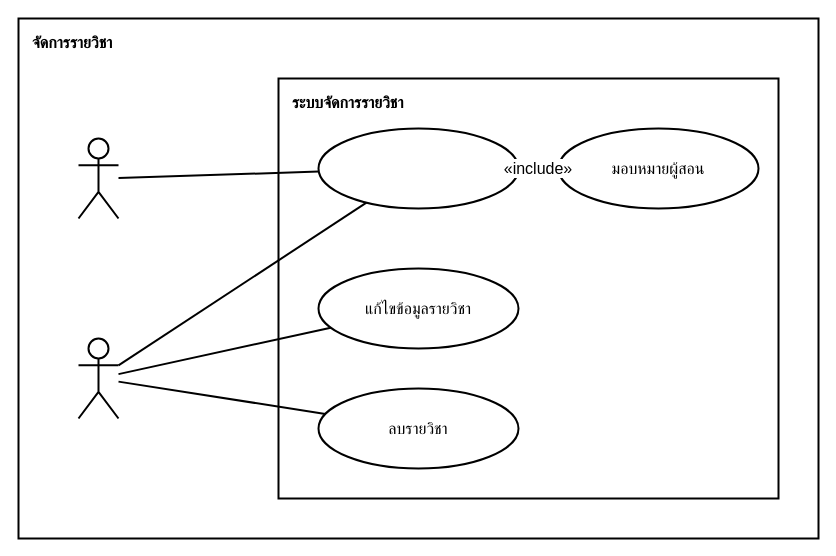
Image size: 836x556. Some labels were removed from this diagram. The centre of each missing label's shape, as x and y in pixels:
"ผู้ดูแลระบบ" goes at point 98,178.
"ผู้สอน" goes at point 98,378.
"สร้างรายวิชา" goes at point 418,168.
